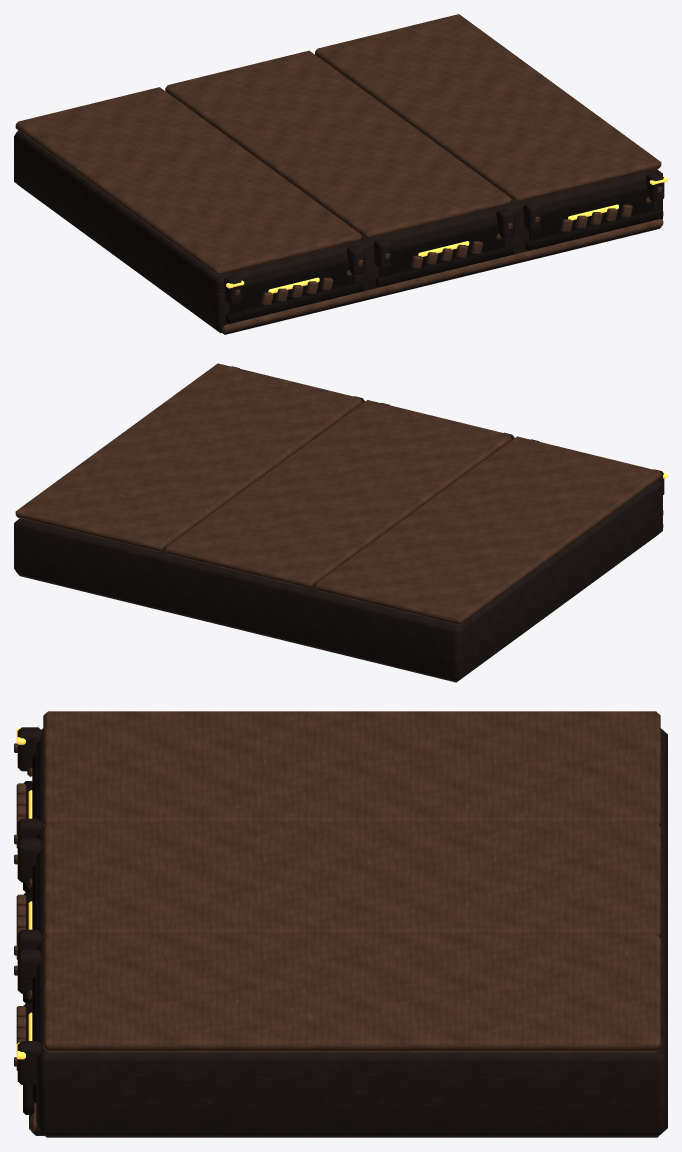
The model's file is deck.glb.
3 renders of one model, top to bottom at view 1: azimuth 30°, elevation 25°; view 2: azimuth 150°, elevation 25°; view 3: azimuth 270°, elevation 25°, orthographic. The views are drawn at different scales.
Visible parts, largest first — view 1: deck - Burnished nickel, deck - Heat-treated steel, deck - Cast iron, deck - Molten amber; view 2: deck - Burnished nickel, deck - Heat-treated steel; view 3: deck - Burnished nickel, deck - Heat-treated steel, deck - Cast iron.
Boxes of the visible parts, left/top/right/bottom form: deck - Burnished nickel: left=15, top=14, right=663, bottom=332; deck - Heat-treated steel: left=14, top=130, right=664, bottom=334; deck - Cast iron: left=226, top=187, right=663, bottom=323; deck - Molten amber: left=226, top=176, right=667, bottom=293; deck - Burnished nickel: left=15, top=363, right=663, bottom=625; deck - Heat-treated steel: left=14, top=366, right=664, bottom=682; deck - Burnished nickel: left=14, top=711, right=660, bottom=1132; deck - Heat-treated steel: left=17, top=727, right=667, bottom=1137; deck - Cast iron: left=23, top=754, right=36, bottom=1114.
Bounding box in the file's own units: 5.99 × 0.84 × 4.97.
Materials: 4 (3 with a texture image).
